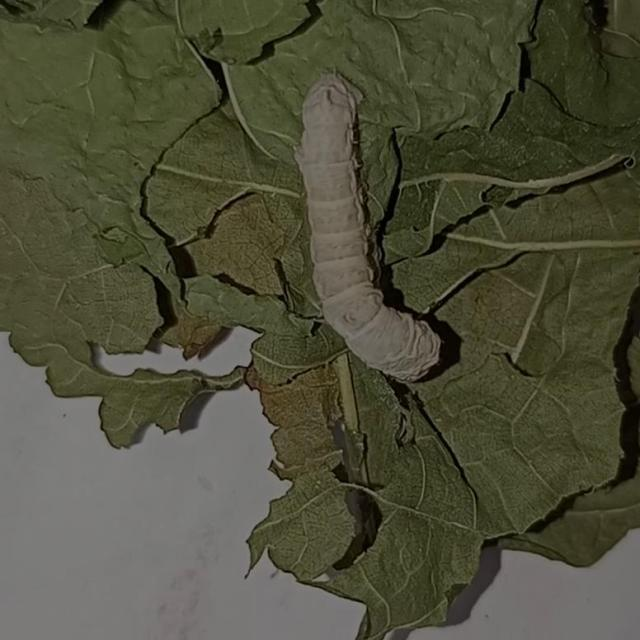Healthy: (286, 55, 457, 396)
